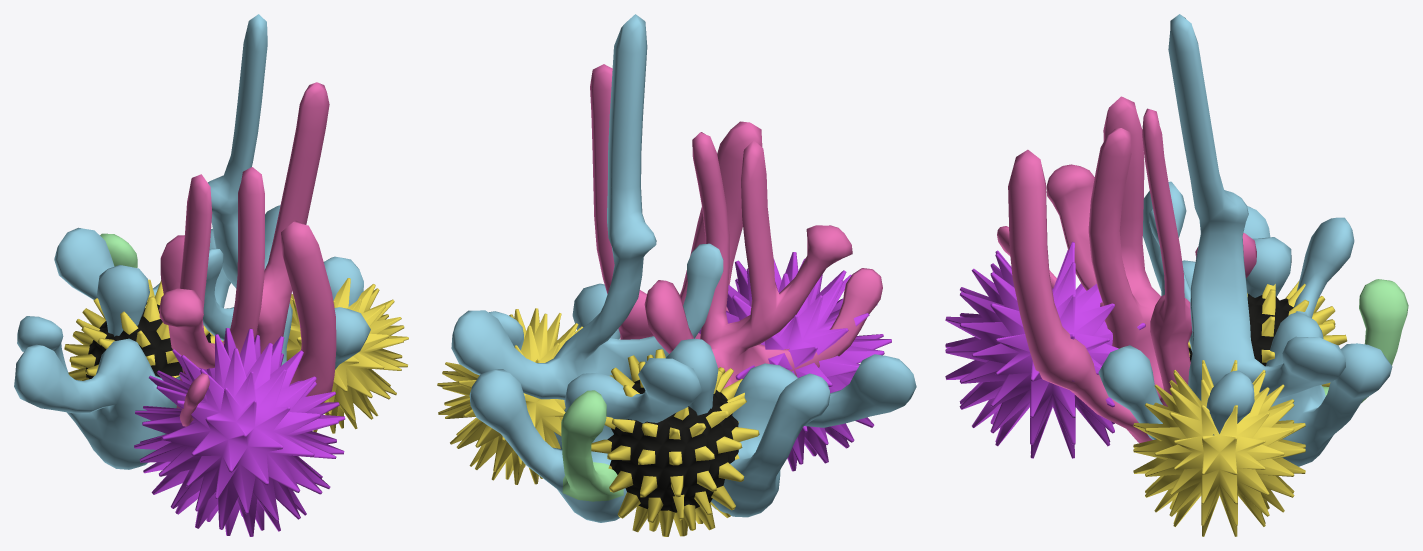
The model's file is corals.glb.
3 views of the same model, side by side, from view 1: azimuth 30°, elevation 25°; view 2: azimuth 150°, elevation 25°; view 3: azimuth 270°, elevation 25° (orthographic). The views are drawn at different scales.
Parts seen in each view (by area): view 1: Object_4, Object_8; view 2: Object_4, Object_8; view 3: Object_4, Object_8.
Boxes of the visible parts, <box> form: Object_4: <box>14,14,408,536</box>; Object_8: <box>85,302,211,378</box>; Object_4: <box>437,14,916,536</box>; Object_8: <box>607,379,738,512</box>; Object_4: <box>945,14,1408,536</box>; Object_8: <box>1188,294,1293,366</box>.
Bounding box in the file's own units: 2.56 × 2.68 × 2.37.
Materials: 2 (2 with a texture image).
